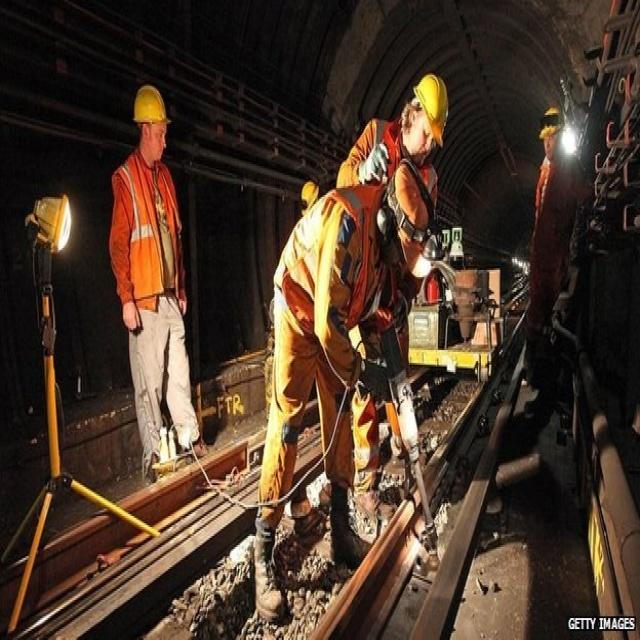helmet: (379, 220, 427, 357), (404, 90, 449, 206), (133, 112, 168, 215), (541, 139, 564, 209), (300, 237, 321, 287)
vest: (269, 256, 388, 443), (108, 212, 188, 428)
